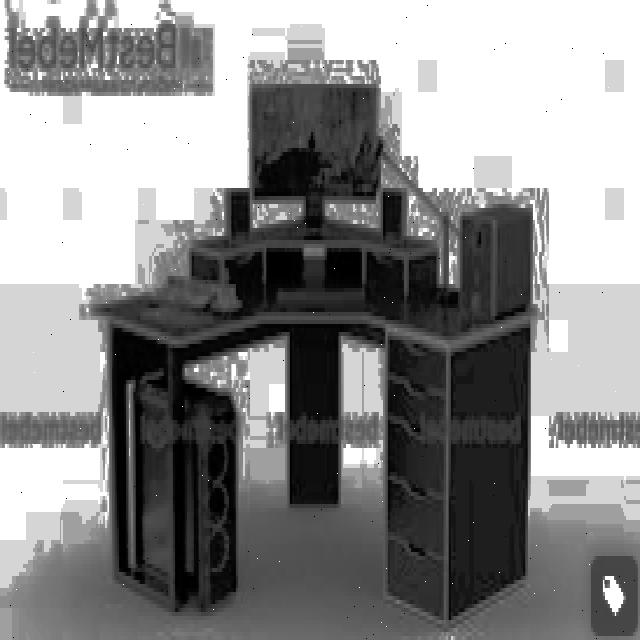paper: (445, 197, 556, 338), (219, 182, 250, 257), (377, 178, 406, 244)
table: (92, 167, 534, 614)
